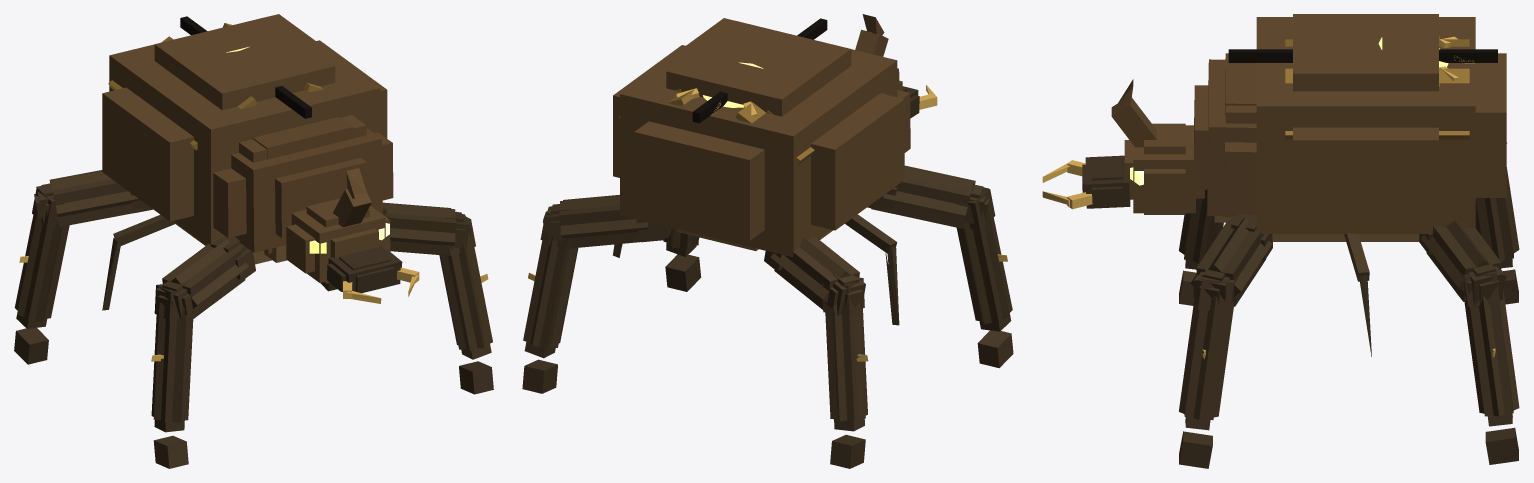
The picture shows the model from 3 angles, left to right: view 1: azimuth 30°, elevation 25°; view 2: azimuth 150°, elevation 25°; view 3: azimuth 270°, elevation 25°; orthographic projection. The views are drawn at different scales.
Parts seen in each view (by area): view 1: SandScarab; view 2: SandScarab; view 3: SandScarab.
Boxes of the visible parts, left/top/right/bottom form: SandScarab: left=14, top=14, right=493, bottom=468; SandScarab: left=522, top=14, right=1013, bottom=468; SandScarab: left=1042, top=14, right=1519, bottom=468.
Size of the model in its own units: 0.8294 by 0.742 by 0.9415.
